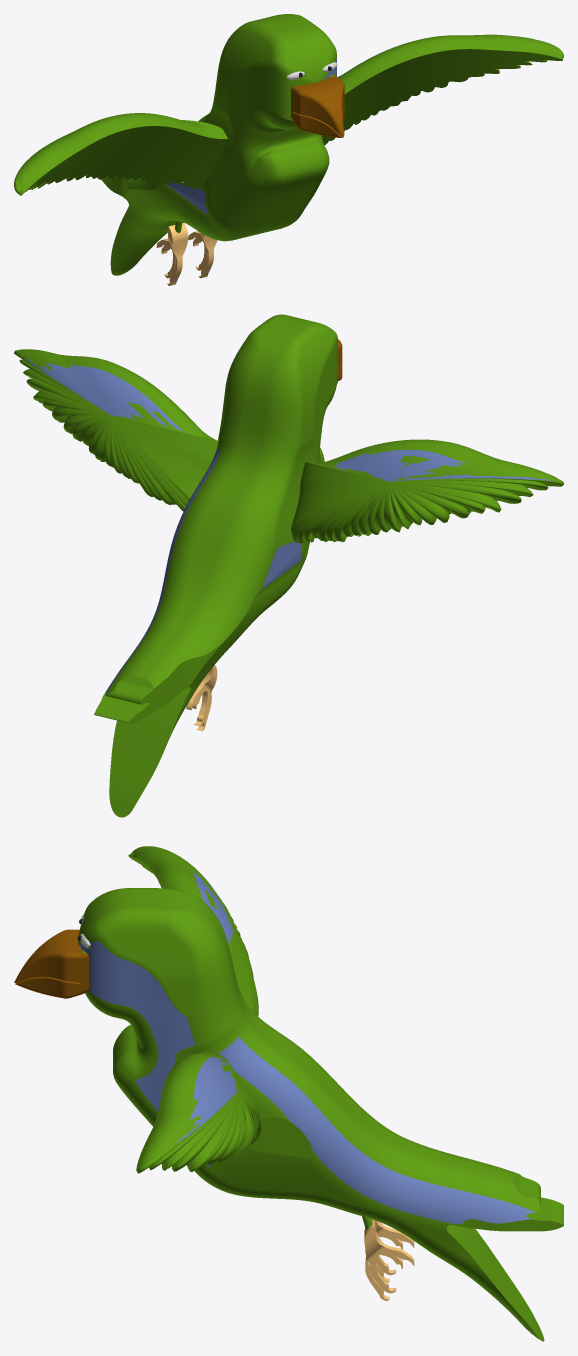
Rendered from karakter 3.gltf.
The picture shows the model from 3 angles, top to bottom: view 1: azimuth 30°, elevation 25°; view 2: azimuth 150°, elevation 25°; view 3: azimuth 270°, elevation 25°; orthographic projection. The views are drawn at different scales.
Parts seen in each view (by area): view 1: Varsayılan, texture-6, texture-5, texture-8; view 2: Varsayılan, texture-5, texture-8; view 3: Varsayılan, texture-7, texture-6, texture-5.
Boxes of the visible parts, <box> form: Varsayılan: <box>14,14,563,275</box>; texture-6: <box>291,74,344,137</box>; texture-5: <box>156,222,217,285</box>; texture-8: <box>166,182,208,215</box>; Varsayılan: <box>14,314,563,817</box>; texture-5: <box>186,665,217,731</box>; texture-8: <box>260,541,302,590</box>; Varsayılan: <box>78,846,563,1341</box>; texture-7: <box>79,941,210,1167</box>; texture-6: <box>14,929,88,998</box>; texture-5: <box>364,1219,414,1300</box>.
Bounding box in the file's own units: 0.4757 × 0.308 × 0.3473.
